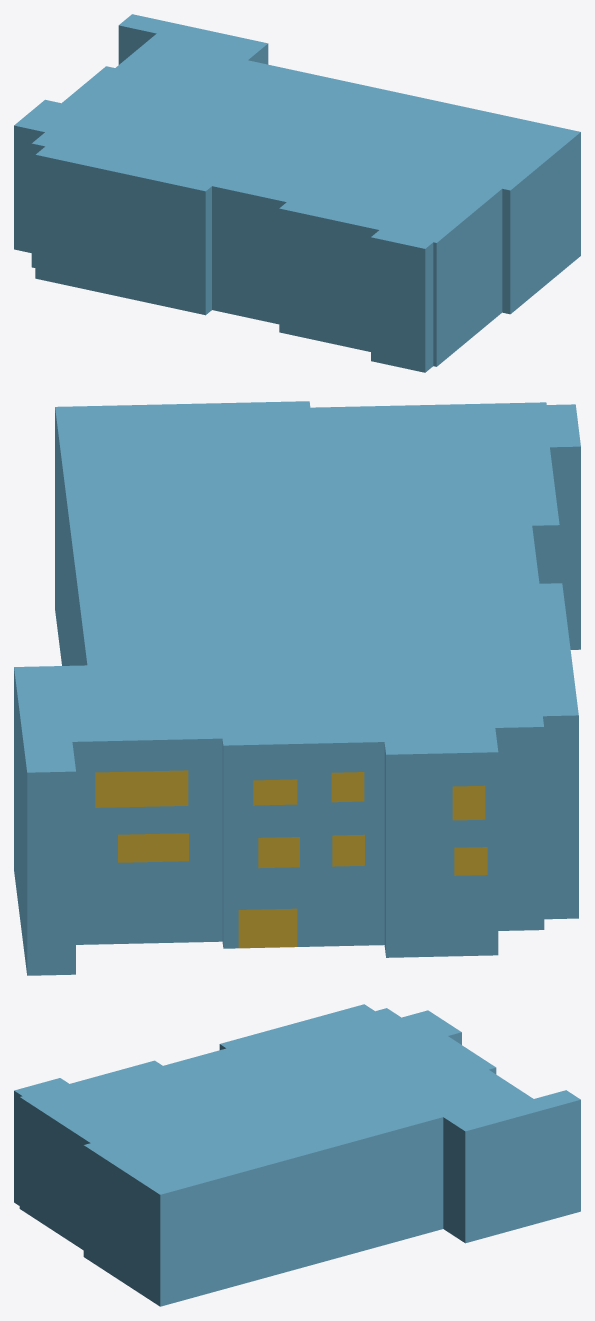
File: bldg_c77436fe-2035-413d-8121-efbc2a1ccda0.obj
The picture shows the model from 3 angles, top to bottom: view 1: azimuth 30°, elevation 25°; view 2: azimuth 150°, elevation 25°; view 3: azimuth 270°, elevation 25°; orthographic projection. The views are drawn at different scales.
Bounding box in the file's own units: 33.55 × 9.19 × 42.18.
